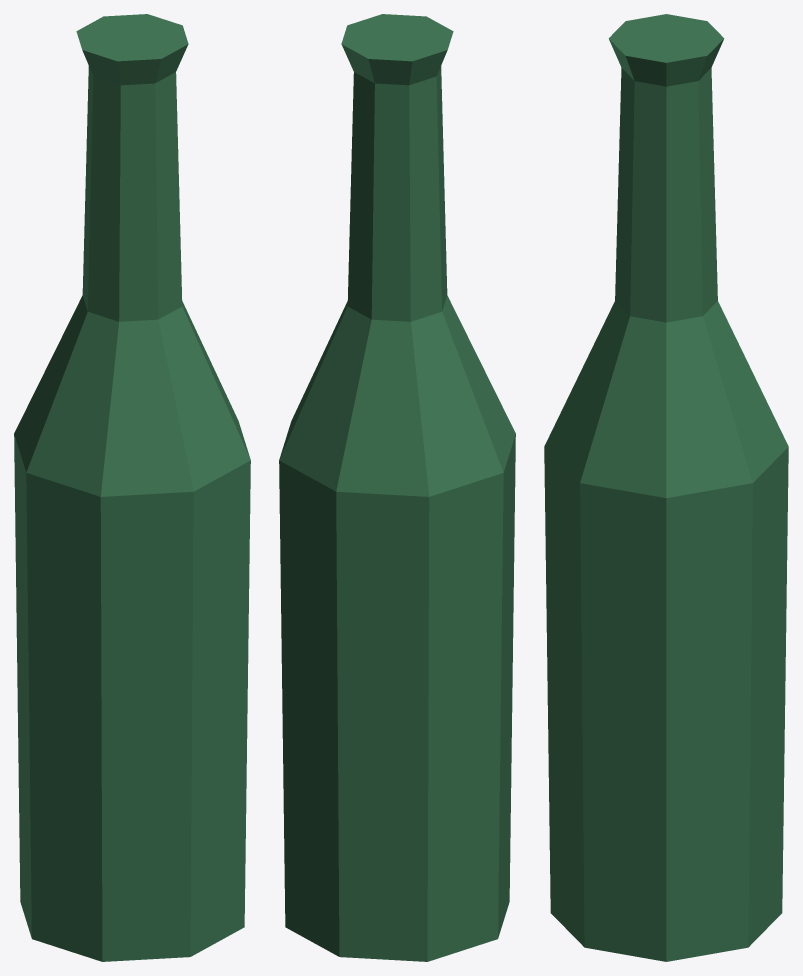
File: SM_Bottle_Green.fbx
The picture shows the model from 3 angles, left to right: view 1: azimuth 30°, elevation 25°; view 2: azimuth 150°, elevation 25°; view 3: azimuth 270°, elevation 25°; orthographic projection.
Visible parts, largest first — view 1: Bottle_Green; view 2: Bottle_Green; view 3: Bottle_Green.
Part boxes in pixels (x1,y1,x2,y2): Bottle_Green: [14, 14, 250, 961]; Bottle_Green: [279, 14, 515, 961]; Bottle_Green: [544, 14, 788, 961].
Size of the model in its own units: 7.6 by 7.6 by 30.
